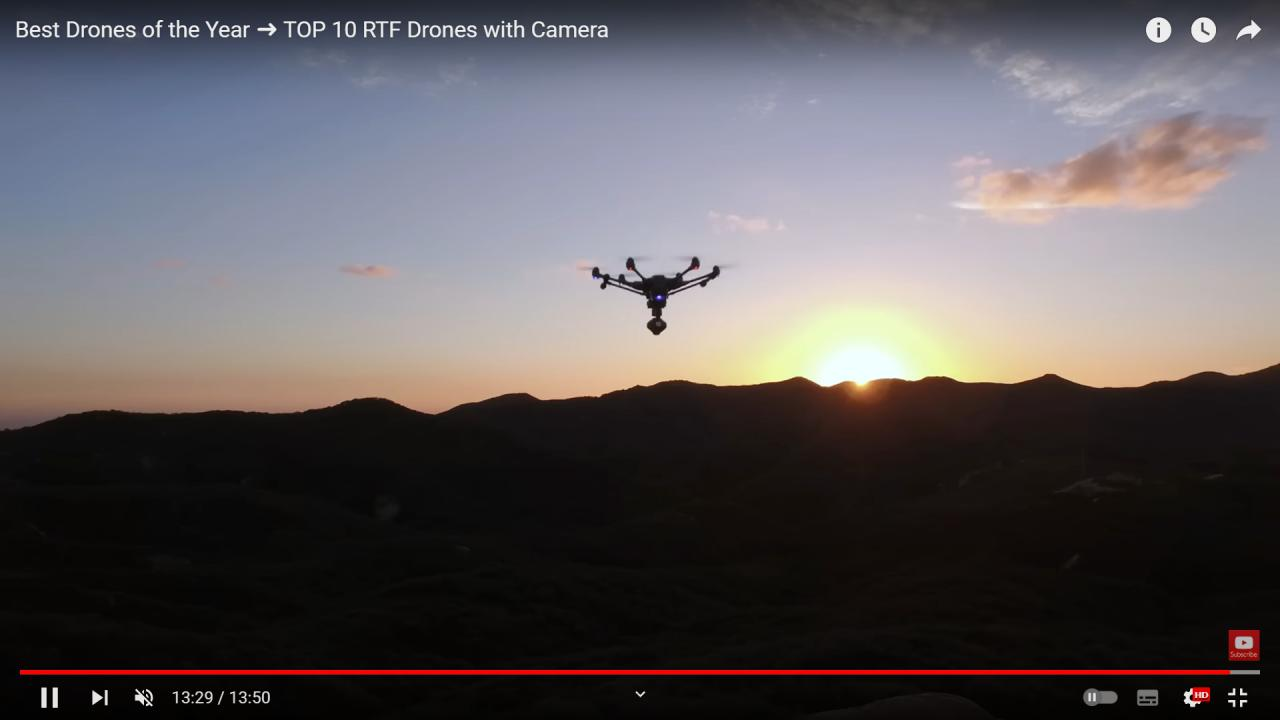Drone: (564, 245, 744, 341)
